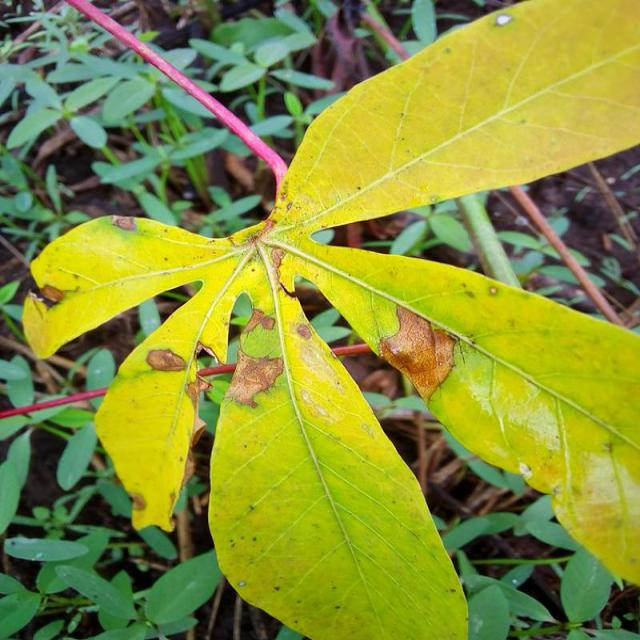cassava leaf: (21, 0, 640, 638)
